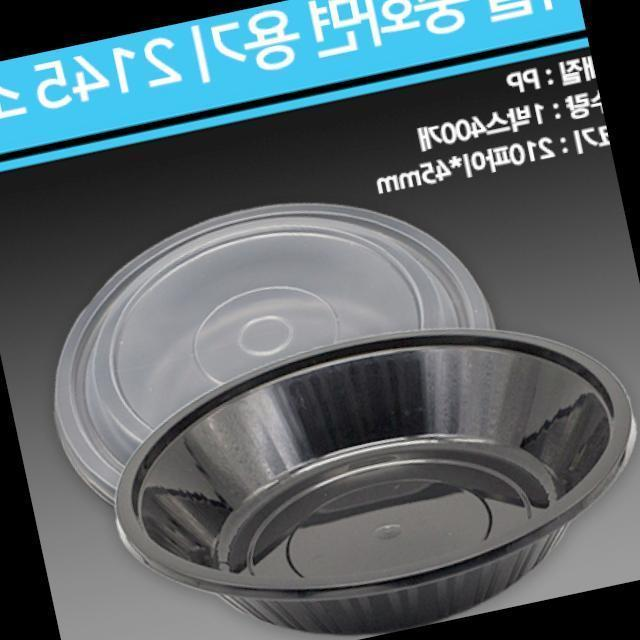disposable: (101, 331, 640, 634)
